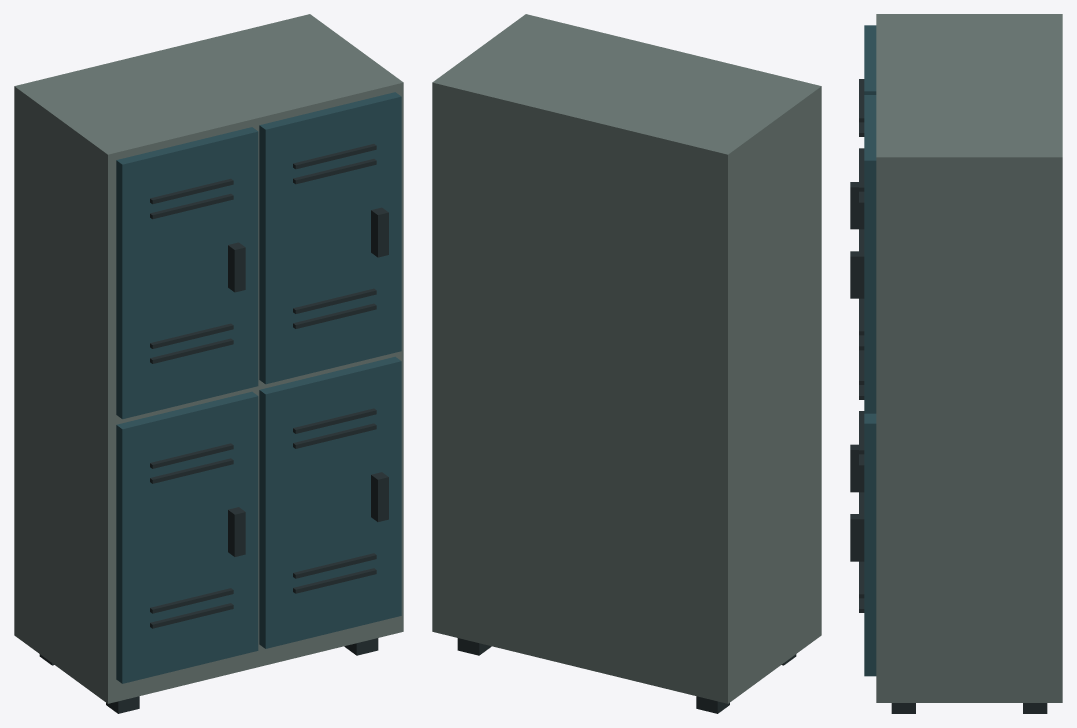
3 renders of one model, left to right at view 1: azimuth 30°, elevation 25°; view 2: azimuth 150°, elevation 25°; view 3: azimuth 270°, elevation 25°, orthographic.
Visible parts, largest first — view 1: a175; view 2: a175; view 3: a175.
Boxes of the visible parts, x1,y1,x2,y2 form: a175: (14,14,403,713); a175: (432,14,821,713); a175: (850,14,1062,713).
Size of the model in its own units: 0.62 by 1.14 by 0.3875.
